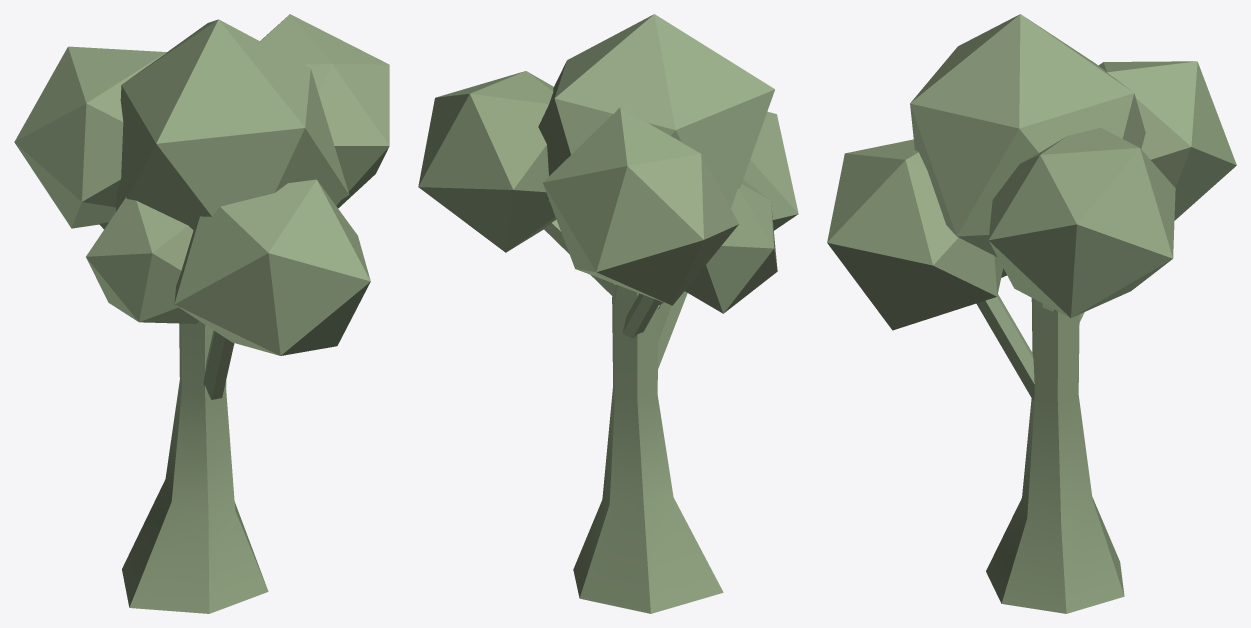
File: Tree 4.fbx
The picture shows the model from 3 angles, left to right: view 1: azimuth 30°, elevation 25°; view 2: azimuth 150°, elevation 25°; view 3: azimuth 270°, elevation 25°; orthographic projection. The views are drawn at different scales.
Parts seen in each view (by area): view 1: LargeTree:sphere_object2, LargeTree:sphere_object3, LargeTree:pCylinder1, LargeTree:sphere_object1, LargeTree:sphere_object5, LargeTree:sphere_object4, LargeTree:pCylinder3; view 2: LargeTree:sphere_object1, LargeTree:pCylinder1, LargeTree:sphere_object2, LargeTree:sphere_object5, LargeTree:sphere_object4, LargeTree:sphere_object3, LargeTree:pCylinder5, LargeTree:pCylinder3; view 3: LargeTree:sphere_object2, LargeTree:sphere_object5, LargeTree:pCylinder1, LargeTree:sphere_object3, LargeTree:sphere_object1, LargeTree:pCylinder3.
Boxes of the visible parts, <box> form: LargeTree:sphere_object2: <box>116,19,349,229</box>; LargeTree:sphere_object3: <box>174,179,370,355</box>; LargeTree:pCylinder1: <box>122,321,268,613</box>; LargeTree:sphere_object1: <box>14,46,166,228</box>; LargeTree:sphere_object5: <box>260,14,389,208</box>; LargeTree:sphere_object4: <box>86,197,198,323</box>; LargeTree:pCylinder3: <box>203,330,234,399</box>; LargeTree:sphere_object1: <box>543,107,738,305</box>; LargeTree:pCylinder1: <box>573,284,723,613</box>; LargeTree:sphere_object2: <box>538,14,774,208</box>; LargeTree:sphere_object5: <box>418,71,556,252</box>; LargeTree:sphere_object4: <box>685,179,777,313</box>; LargeTree:sphere_object3: <box>743,111,798,230</box>; LargeTree:pCylinder5: <box>622,293,660,338</box>; LargeTree:pCylinder3: <box>658,291,687,368</box>; LargeTree:sphere_object2: <box>910,14,1145,257</box>; LargeTree:sphere_object5: <box>988,127,1175,317</box>; LargeTree:pCylinder1: <box>986,298,1124,613</box>; LargeTree:sphere_object3: <box>827,139,1003,330</box>; LargeTree:sphere_object1: <box>1098,61,1236,220</box>; LargeTree:pCylinder3: <box>976,294,1034,400</box>.
Size of the model in its own units: 37.86 by 63.41 by 41.3.
